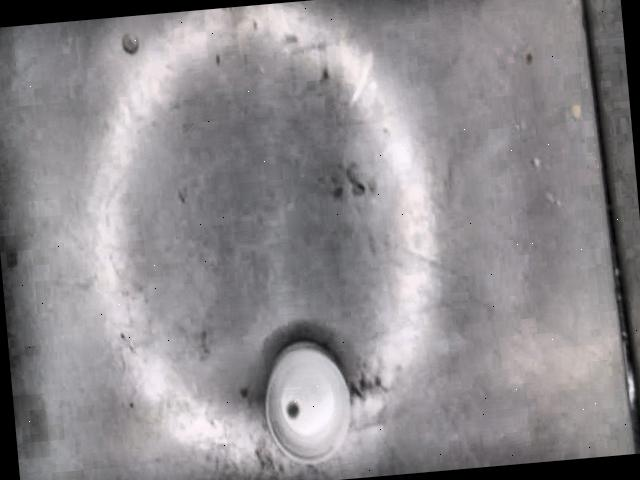Plastic: (264, 338, 352, 465)
